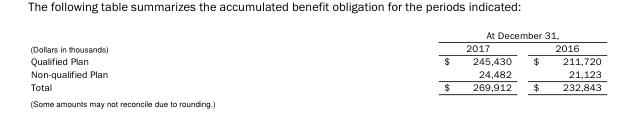table: (29, 28, 600, 92)
table column: (29, 28, 275, 92), (275, 28, 521, 92), (521, 28, 600, 92)
table column header: (29, 28, 600, 54)
table row: (29, 40, 600, 54), (29, 54, 600, 67), (29, 67, 600, 80), (29, 28, 600, 40), (29, 80, 600, 92)
table spanning cell: (29, 28, 275, 54), (275, 28, 600, 40)
